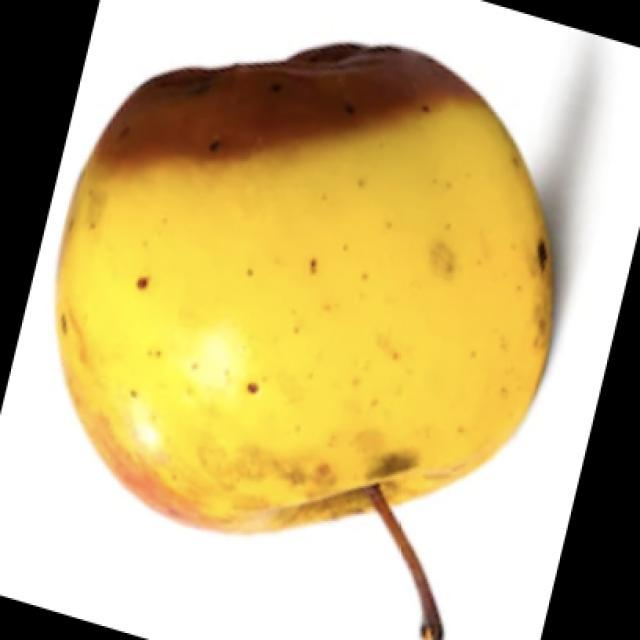Rotten: (67, 48, 543, 522)
